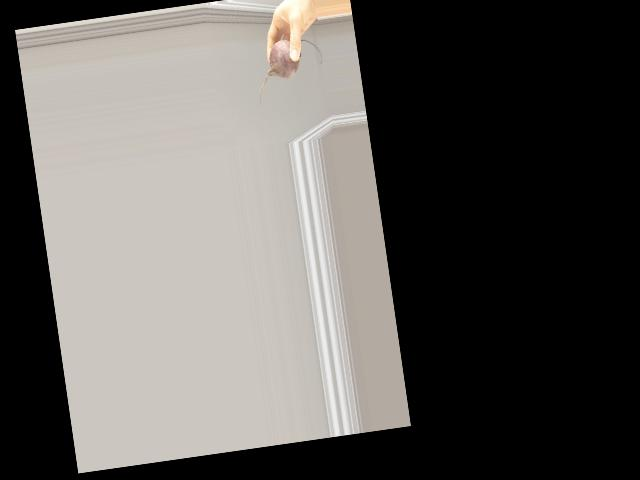beet: (252, 35, 328, 106)
